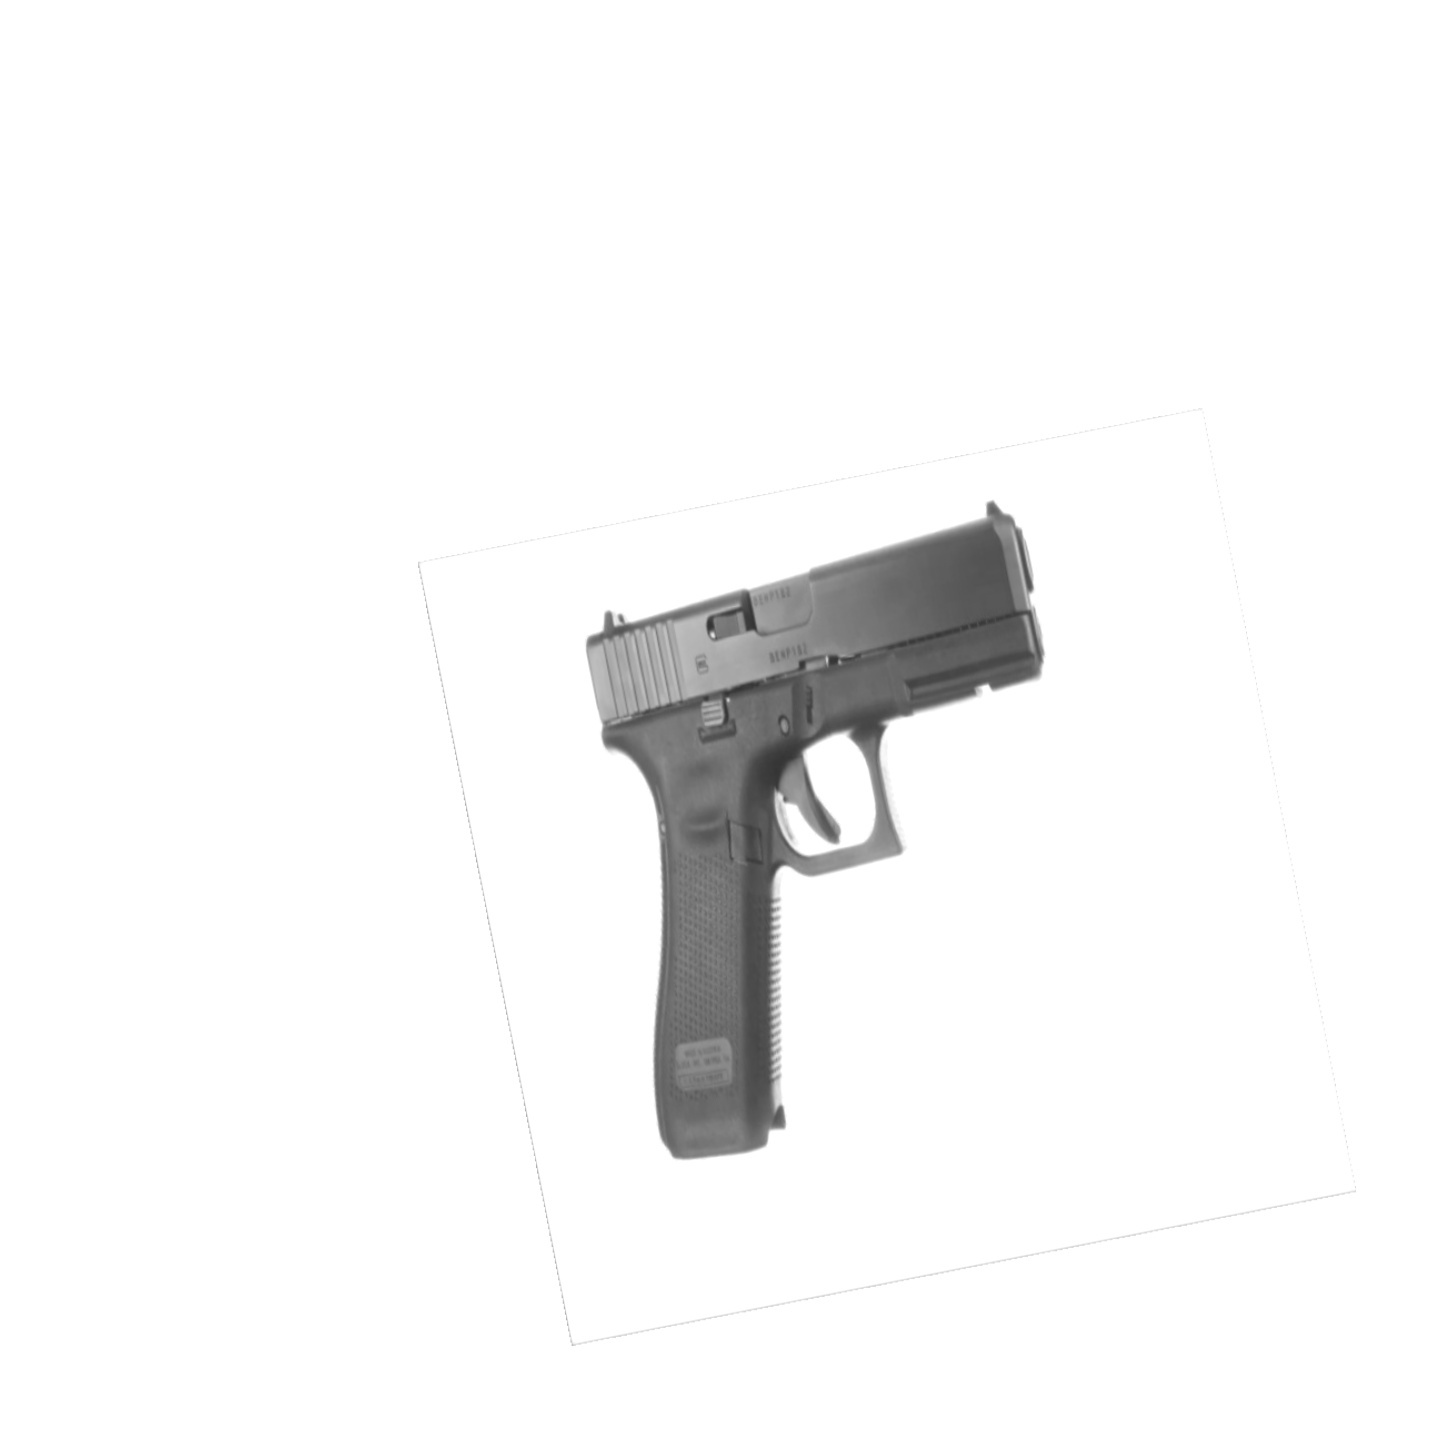gun: (587, 500, 1046, 1158)
